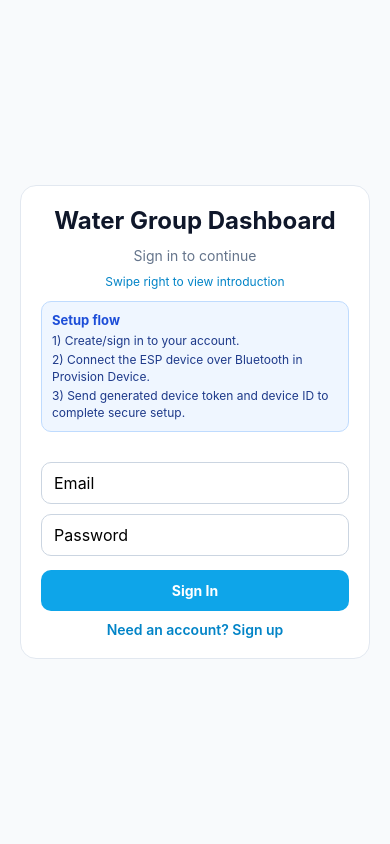
Test: AuthScreen › shows signup hint in sign-up mode
Step 1. Click the text "Need an account? Sign up" → (195, 630), box [107, 621, 283, 638]
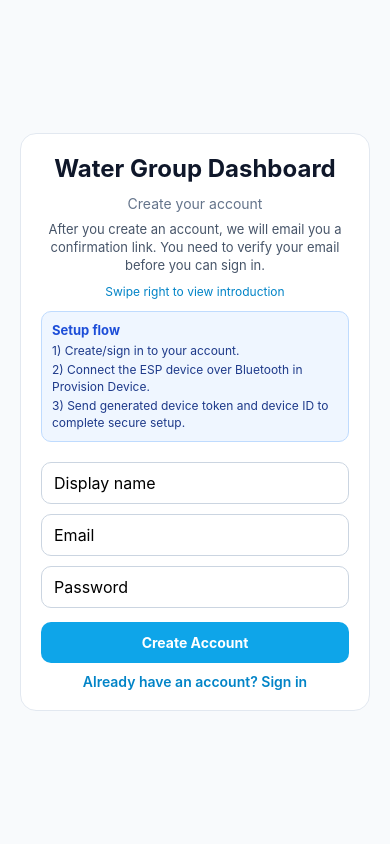
Check: the text "You need to verify your email before you can sign in" is shown, box [48, 221, 345, 273]
